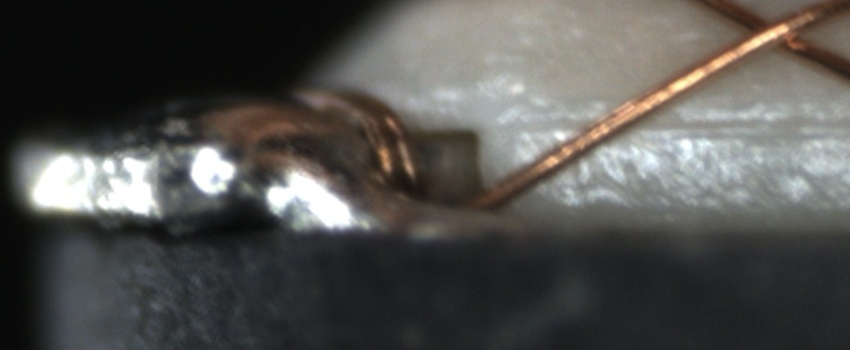CL: (720, 3, 823, 62)
DL: (521, 95, 850, 161)
TE: (307, 82, 423, 194)
